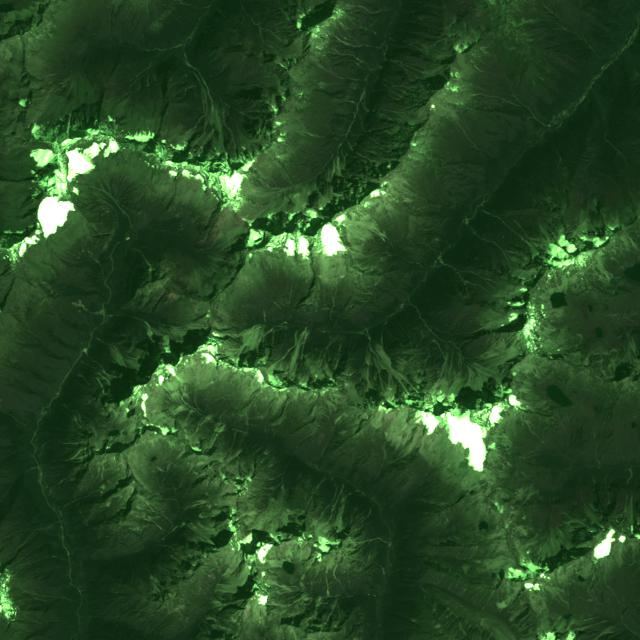landslides: (468, 225, 538, 282), (88, 167, 136, 238), (483, 209, 538, 258), (6, 522, 59, 563), (450, 116, 494, 159), (367, 329, 396, 394), (375, 343, 409, 396), (94, 335, 142, 372), (605, 138, 640, 182), (190, 72, 208, 152), (579, 478, 607, 529), (439, 254, 469, 299), (124, 241, 156, 282), (268, 328, 299, 370), (110, 348, 146, 384), (459, 270, 505, 297), (285, 326, 308, 379), (87, 353, 124, 385), (231, 117, 262, 154), (200, 73, 214, 154), (336, 25, 380, 50), (513, 219, 549, 249), (79, 69, 97, 128), (400, 44, 454, 63), (130, 51, 163, 82), (5, 466, 39, 495), (317, 474, 337, 523), (80, 359, 113, 388), (266, 152, 294, 186), (176, 114, 203, 149), (468, 52, 504, 78), (392, 60, 446, 77), (60, 404, 92, 432), (317, 63, 364, 82), (621, 486, 639, 535), (556, 527, 585, 557), (304, 476, 327, 513), (469, 92, 523, 107), (347, 509, 372, 541), (350, 131, 397, 148), (41, 435, 94, 450), (222, 101, 236, 156), (465, 281, 503, 301), (218, 429, 240, 462), (330, 45, 365, 65), (97, 145, 111, 195), (317, 335, 338, 368), (397, 38, 450, 51), (328, 483, 344, 526), (358, 146, 398, 163), (203, 424, 226, 453), (213, 102, 225, 157), (337, 19, 377, 35), (394, 369, 419, 394), (129, 513, 163, 531), (398, 62, 434, 79), (58, 464, 87, 485), (344, 503, 365, 532), (621, 230, 640, 262), (333, 557, 348, 597), (381, 109, 421, 124), (330, 337, 346, 374), (394, 315, 413, 346), (392, 62, 421, 82), (564, 520, 600, 536), (77, 72, 86, 132), (382, 78, 430, 89), (171, 84, 197, 104), (378, 113, 409, 129), (344, 4, 393, 14), (373, 356, 386, 393), (616, 489, 629, 526), (315, 333, 331, 363), (331, 32, 361, 48), (524, 419, 543, 444), (210, 255, 243, 269), (520, 484, 539, 508), (510, 482, 530, 504), (57, 453, 93, 465), (118, 344, 148, 358), (577, 619, 612, 631), (504, 250, 530, 266), (178, 462, 194, 488), (594, 624, 619, 640), (365, 351, 374, 393), (71, 299, 91, 317), (300, 330, 312, 360), (514, 17, 541, 30), (14, 10, 31, 29), (174, 0, 209, 9), (354, 537, 392, 545), (256, 347, 271, 367), (391, 321, 406, 341), (95, 375, 109, 396), (9, 12, 23, 33), (459, 110, 471, 134), (0, 19, 15, 38), (368, 126, 399, 135), (22, 8, 42, 21), (209, 64, 225, 80), (385, 326, 400, 343), (107, 333, 132, 343), (482, 590, 495, 609), (422, 239, 438, 254), (322, 562, 329, 596), (62, 498, 83, 509), (73, 416, 86, 432), (350, 60, 366, 73), (320, 53, 331, 71), (611, 257, 625, 271), (83, 487, 100, 498), (297, 0, 306, 19), (382, 441, 390, 462), (484, 277, 502, 286), (455, 286, 464, 302), (340, 147, 346, 171), (79, 384, 94, 393), (330, 117, 352, 123), (78, 374, 89, 385), (583, 615, 600, 622), (29, 6, 45, 13), (380, 326, 385, 348), (560, 511, 572, 520), (513, 76, 520, 91), (330, 295, 334, 321), (483, 50, 496, 58), (32, 1, 49, 7)
